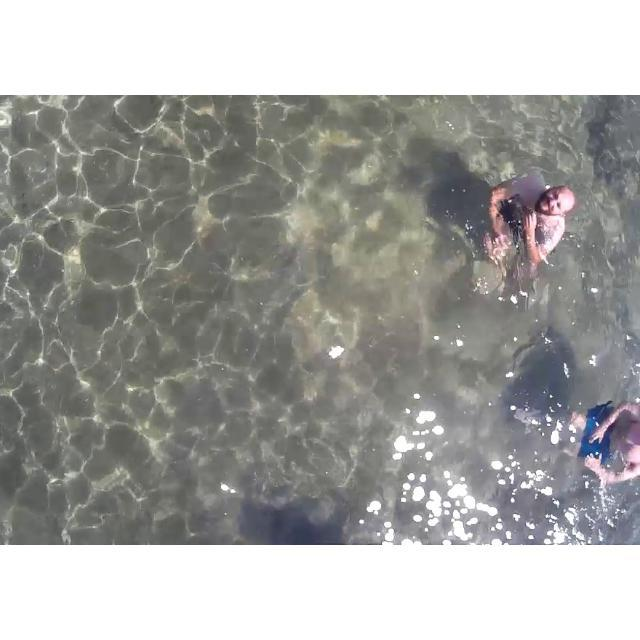human: (476, 137, 578, 281), (551, 393, 637, 512)
